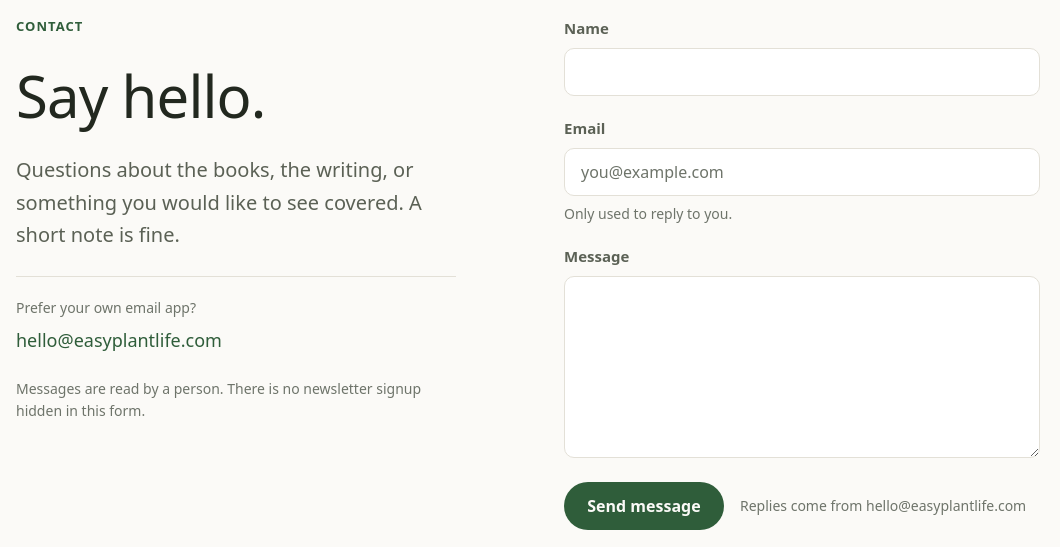
Scenario: Contact Page Integration Tests › Valid contact submission - success message › displays success message after valid submission
Fill out the form
Type "John Doe" into the field labelled "Name".
click(802, 72); type("John Doe")  # box [564,48,1040,96]
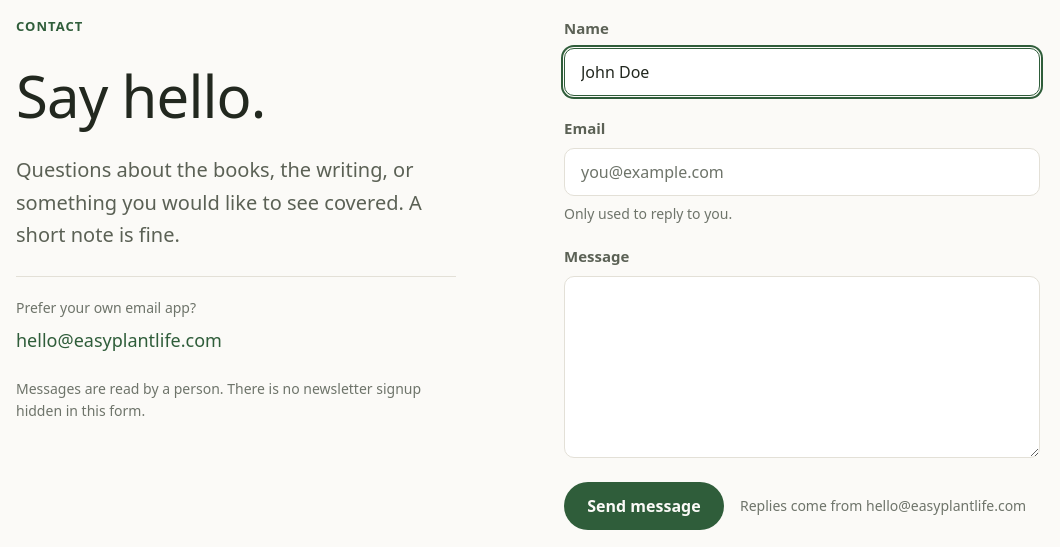
Type "john@example.com" into the field labelled "Email".
click(802, 172); type("john@example.com")  # box [564,148,1040,196]
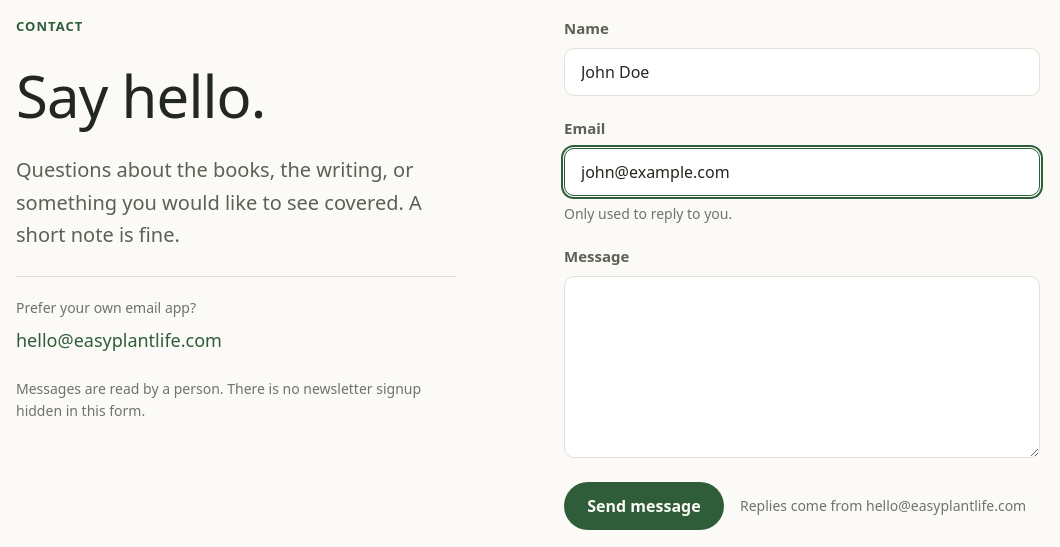
Type "I have a question about plants." into the text box labelled "Message".
click(802, 367); type("I have a question about plants.")  # box [564,276,1040,458]
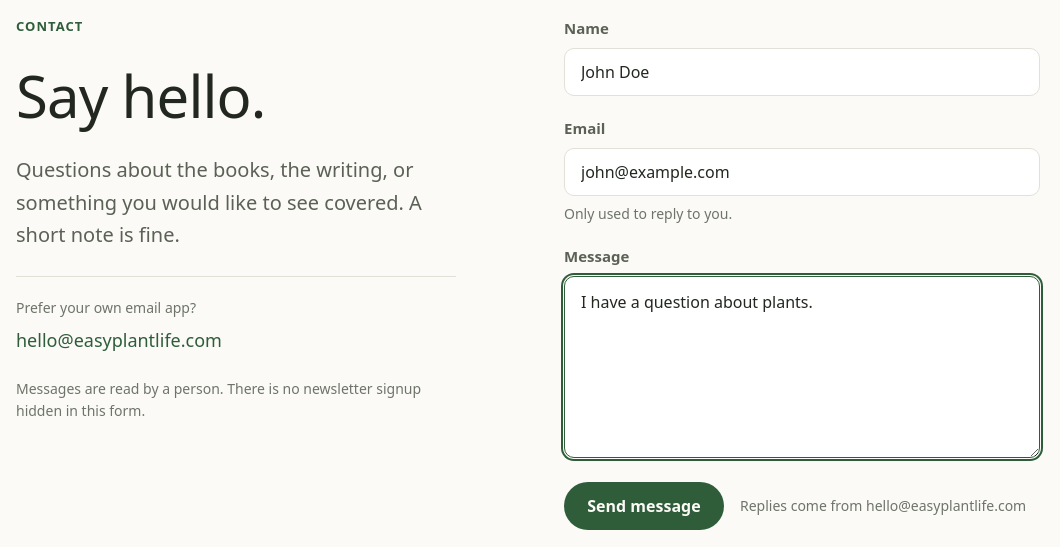
Submit the form
Click the button "Send message".
click(644, 506)  # box [564,482,724,530]
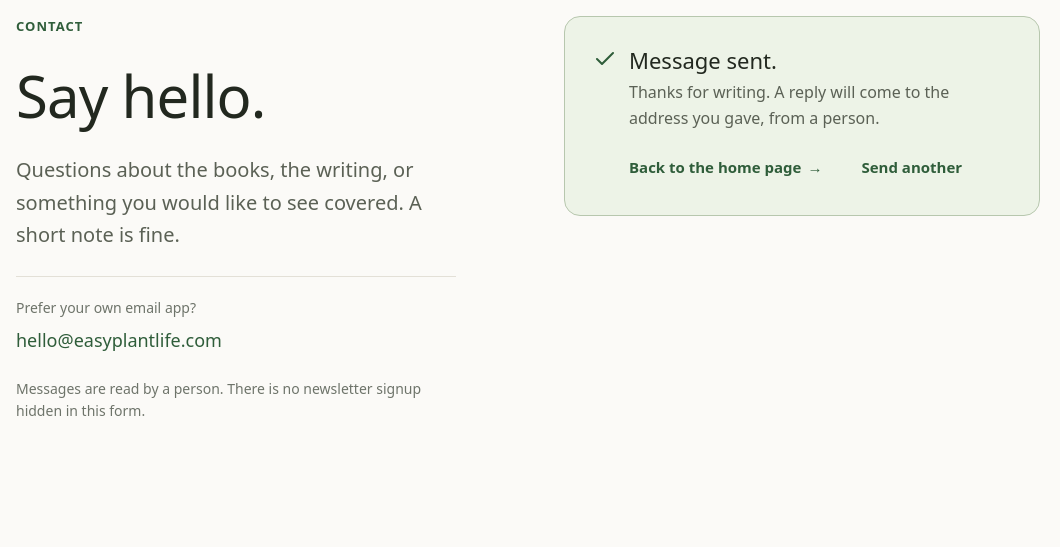
Expected: the message with test id "contact-success" is shown, [564,16,1040,216]
